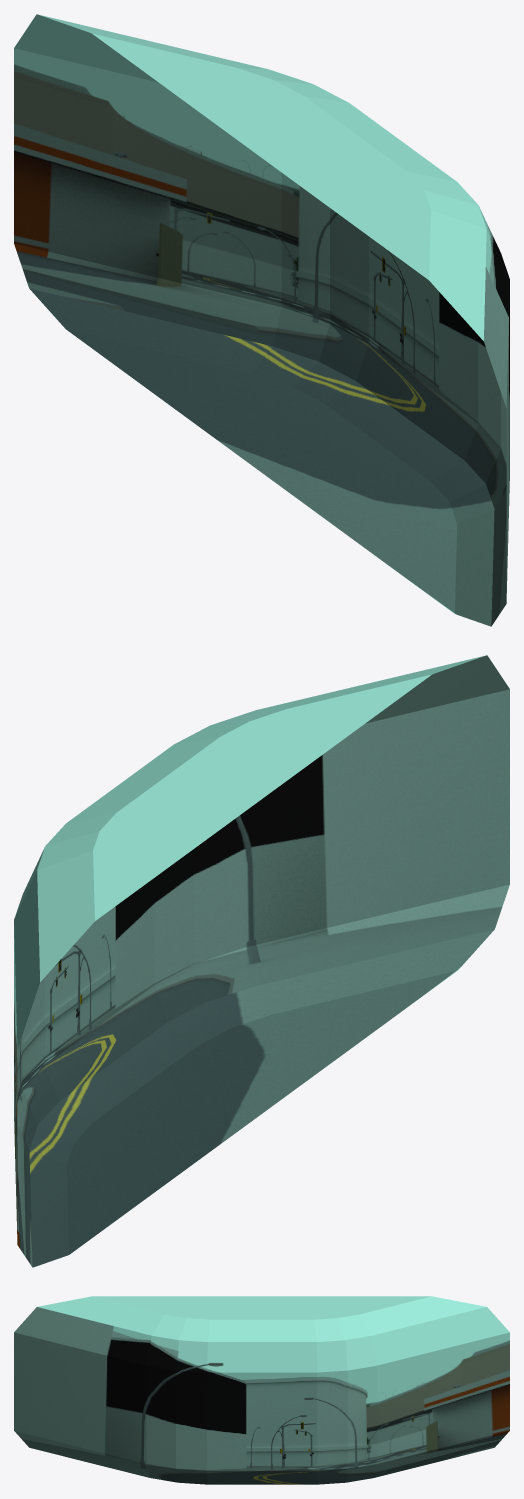
Rendered from esfera.fbx.
The picture shows the model from 3 angles, top to bottom: view 1: azimuth 30°, elevation 25°; view 2: azimuth 150°, elevation 25°; view 3: azimuth 270°, elevation 25°; orthographic projection. The views are drawn at different scales.
Parts seen in each view (by area): view 1: Sphere; view 2: Sphere; view 3: Sphere.
Boxes of the visible parts, x1,y1,x2,y2 form: Sphere: (14,14,509,626); Sphere: (14,655,509,1267); Sphere: (14,1296,509,1484).
Size of the model in its own units: 552 by 1015 by 2880.
